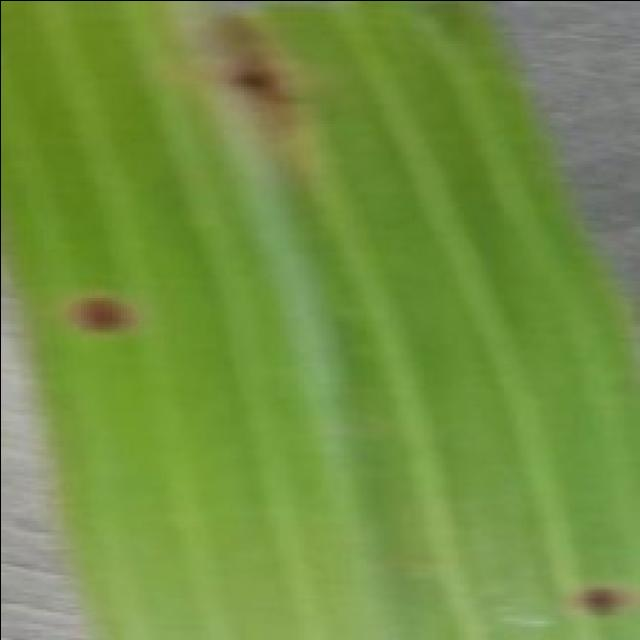Unhealthy: (157, 0, 314, 188), (73, 291, 137, 334), (574, 586, 640, 616)
